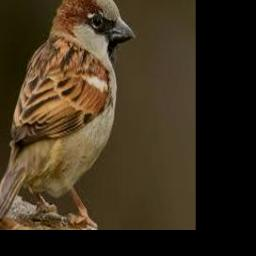Sparrow: (0, 0, 136, 226)
